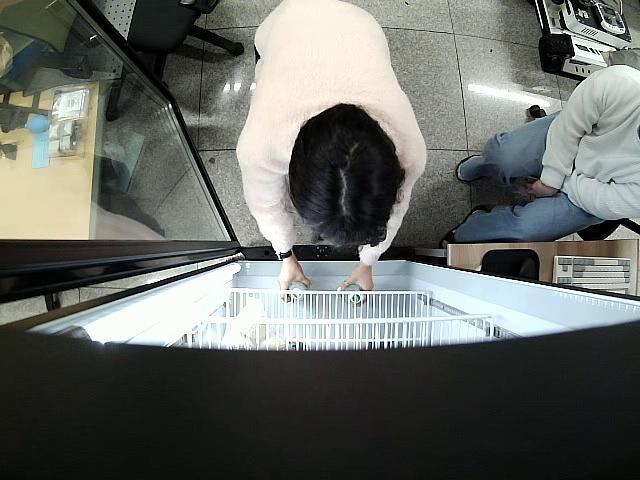18_trevi: (286, 279, 310, 302), (342, 283, 366, 306)
